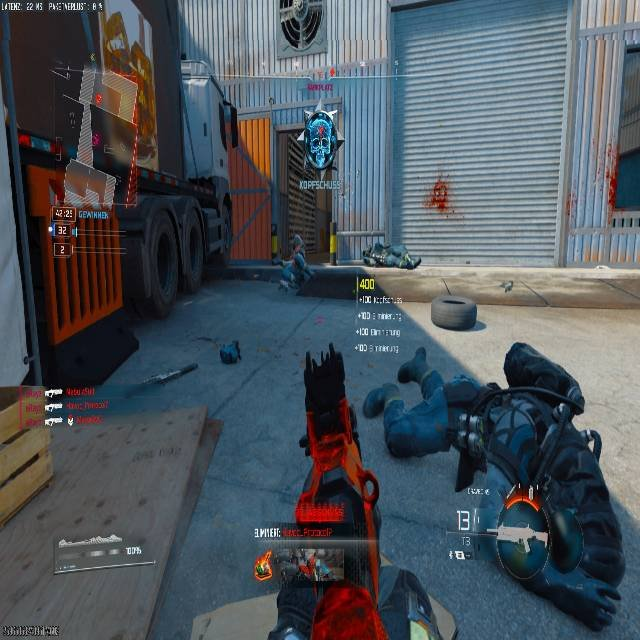head: (405, 255, 420, 269)
player: (288, 107, 343, 182)
